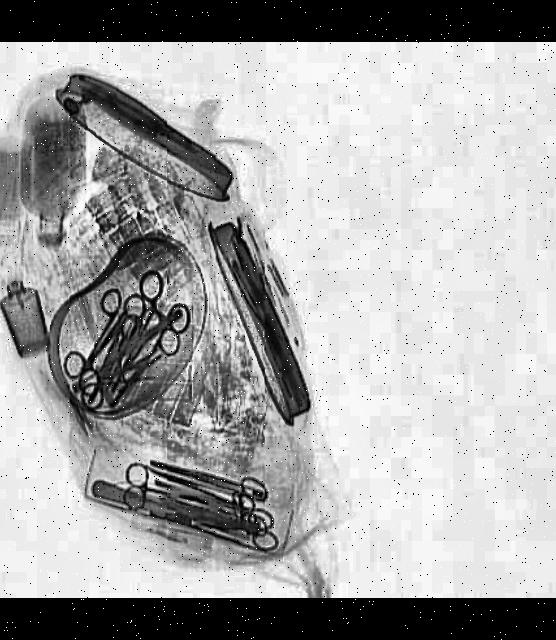Scissors: (65, 279, 152, 379), (54, 308, 142, 398), (191, 490, 271, 548), (195, 501, 283, 553), (119, 460, 181, 518)
